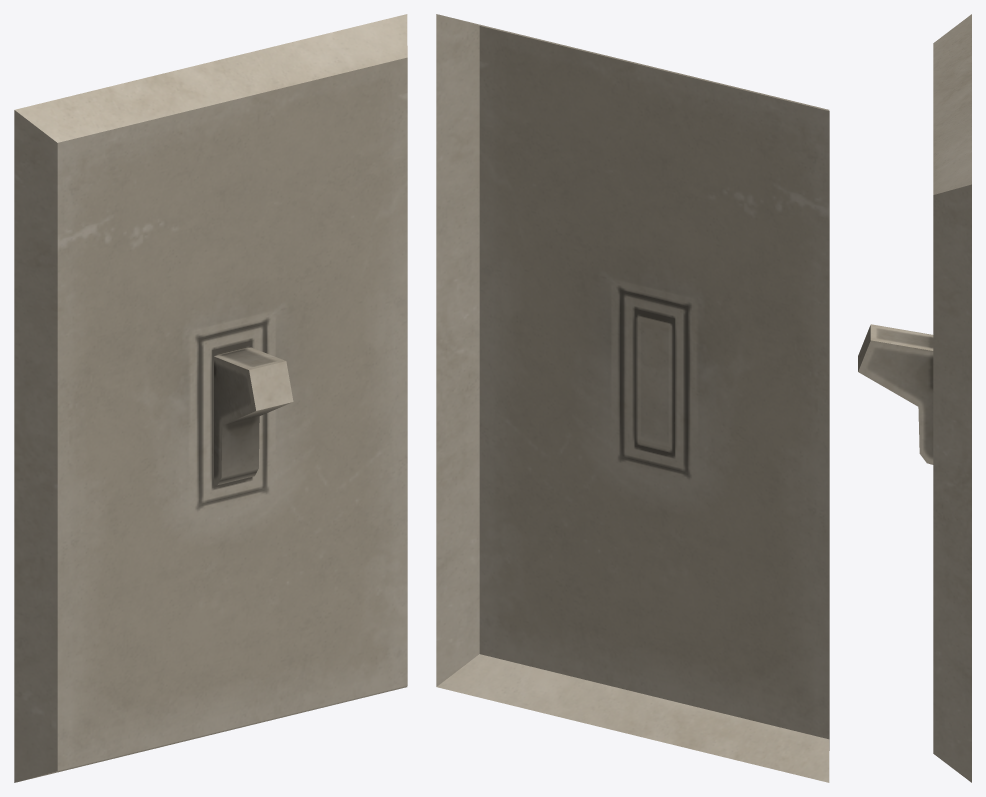
The model's file is LightSwitch.fbx.
The picture shows the model from 3 angles, left to right: view 1: azimuth 30°, elevation 25°; view 2: azimuth 150°, elevation 25°; view 3: azimuth 270°, elevation 25°; orthographic projection. The views are drawn at different scales.
Parts seen in each view (by area): view 1: LightSwitch; view 2: LightSwitch; view 3: LightSwitch.
Part boxes in pixels (<box>): LightSwitch: <box>14,14,407,782</box>; LightSwitch: <box>436,14,829,782</box>; LightSwitch: <box>858,14,971,782</box>.
Size of the model in its own units: 7.33 by 12 by 2.07.
